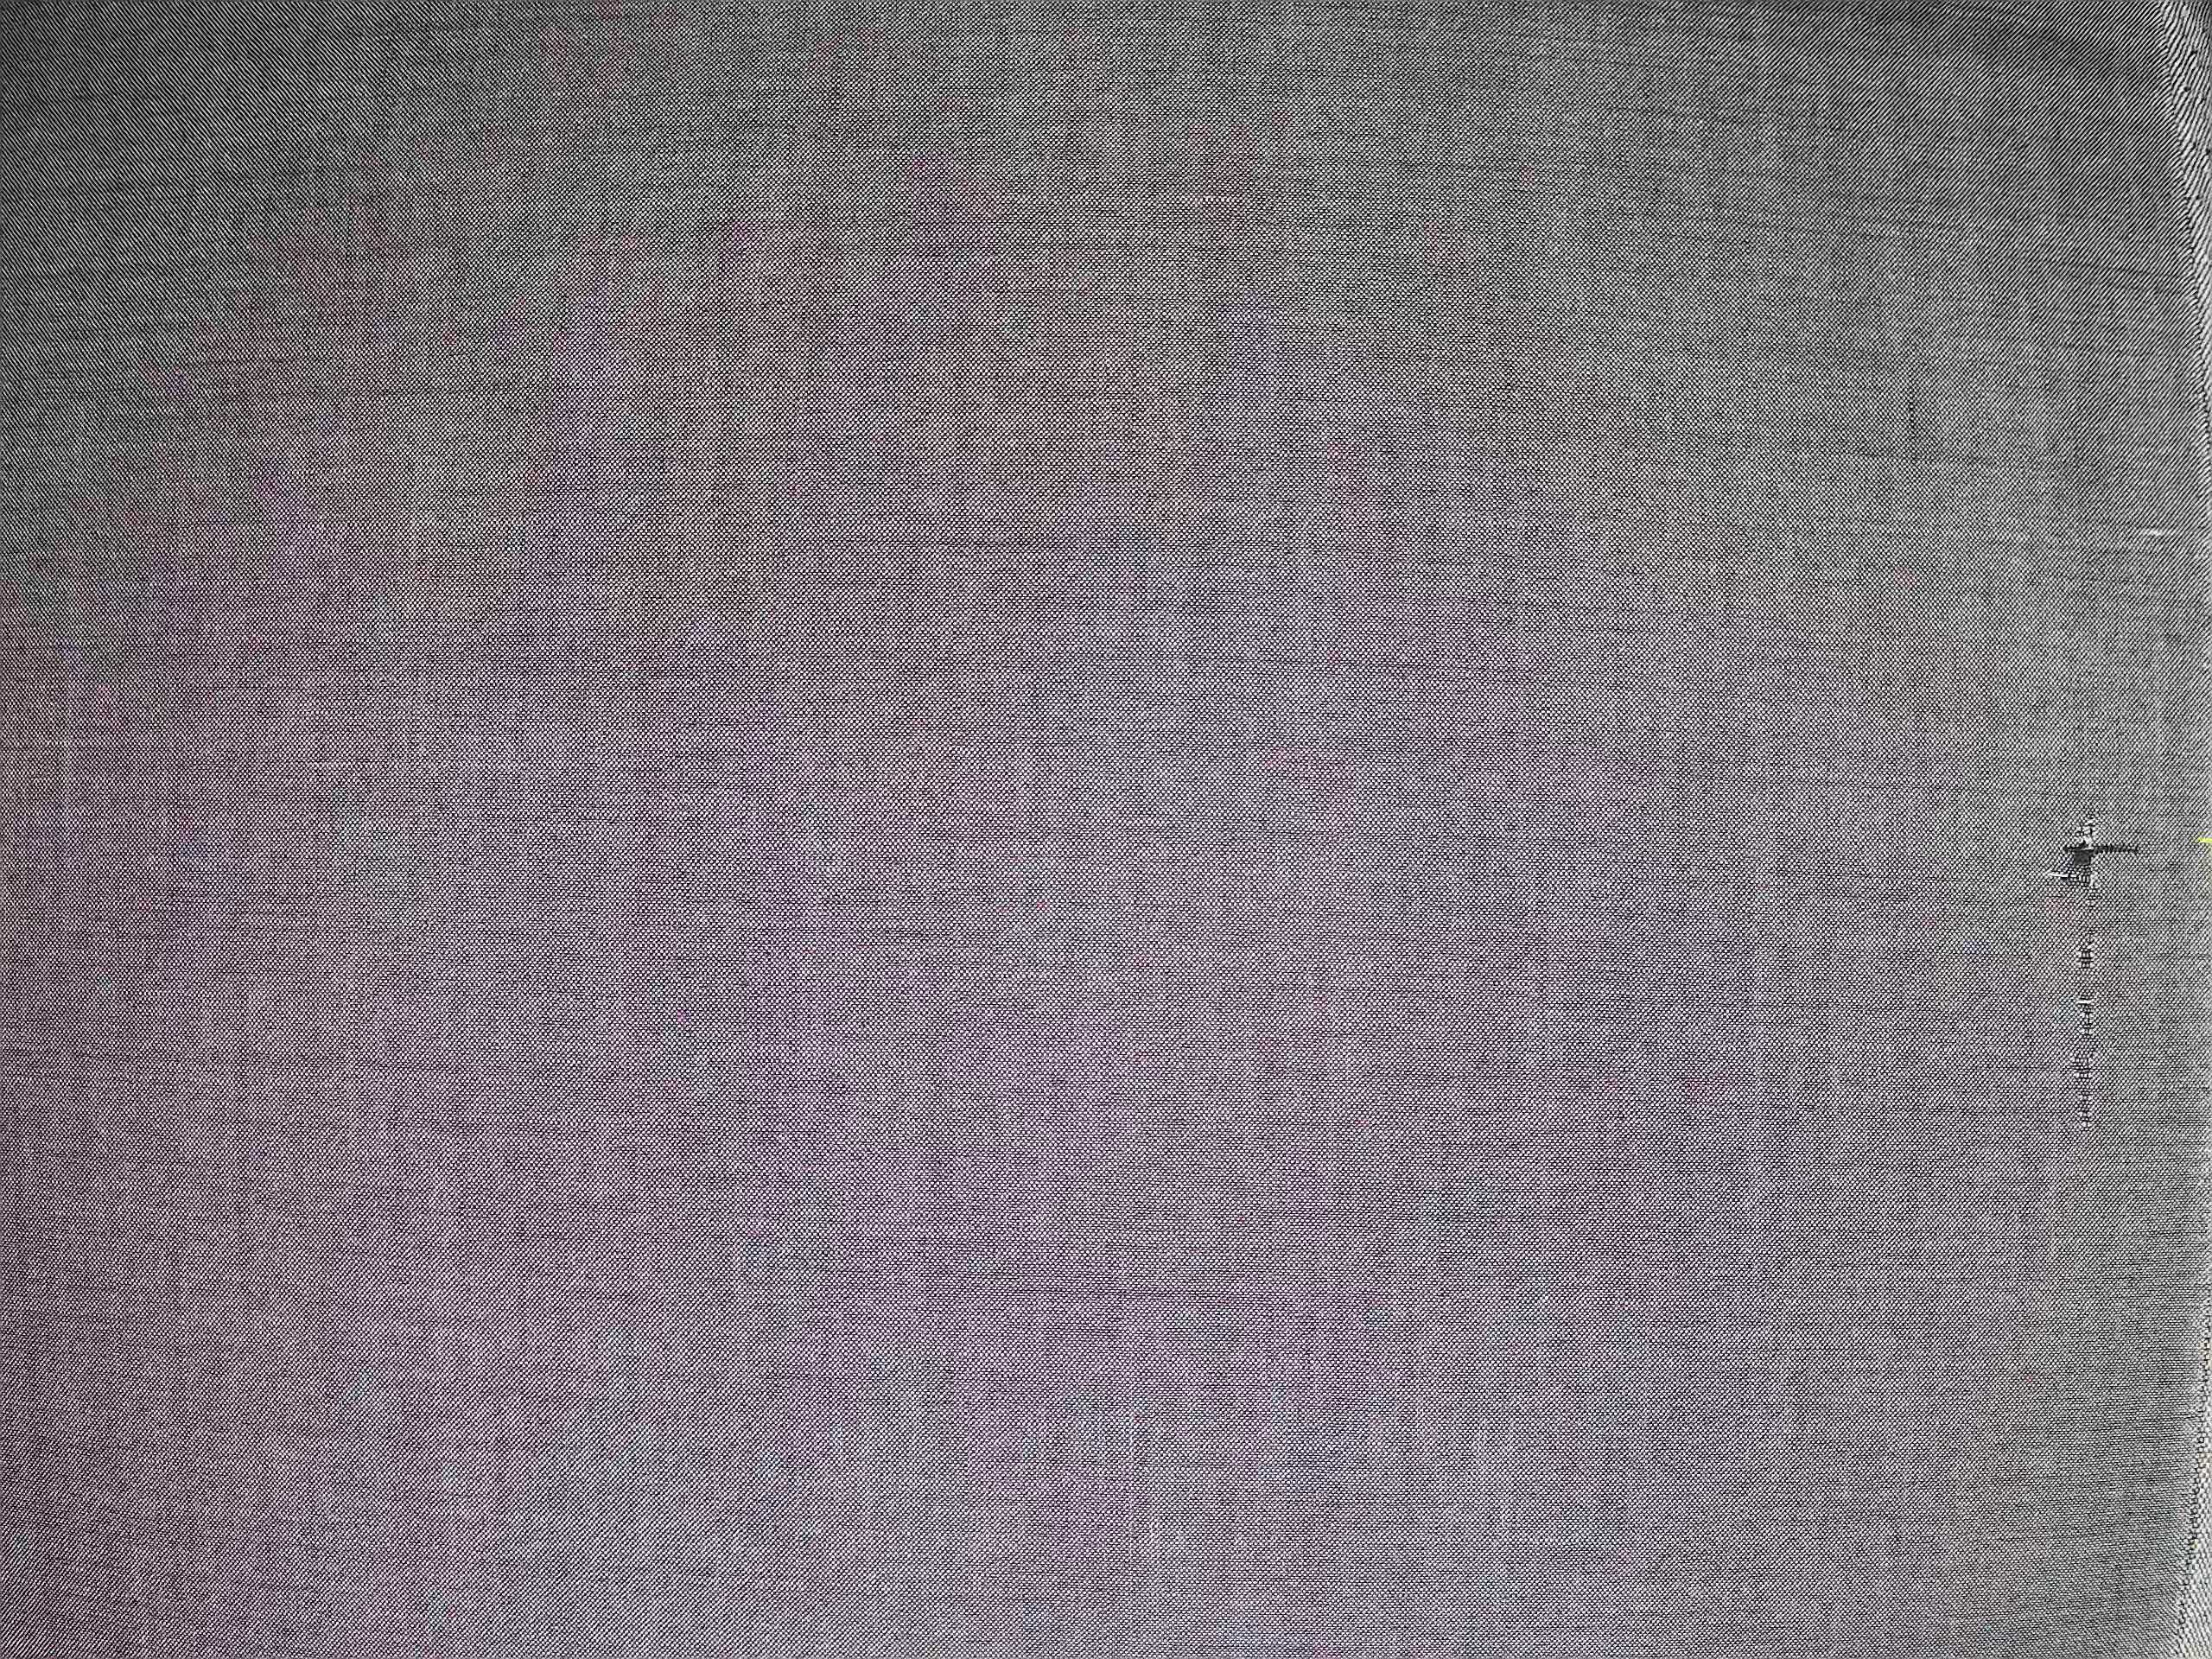filling_floats: (2044, 805, 2164, 1144)
